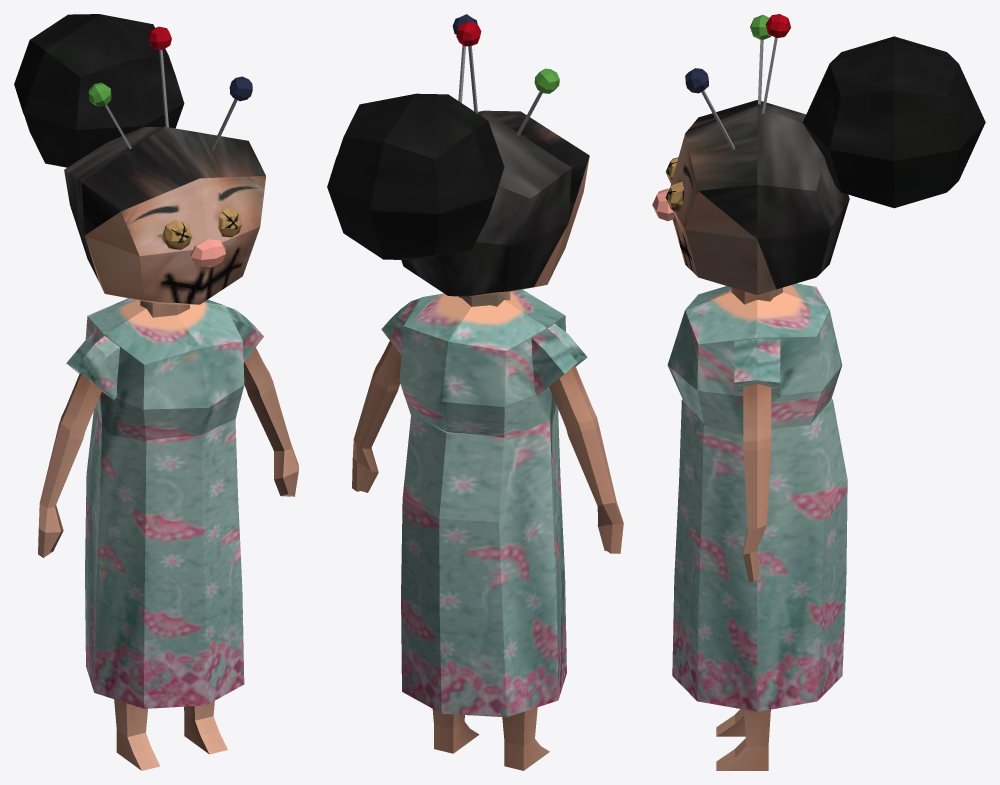
The model's file is emakvoodoo.fbx.
3 renders of one model, left to right at view 1: azimuth 30°, elevation 25°; view 2: azimuth 150°, elevation 25°; view 3: azimuth 270°, elevation 25°, orthographic. The views are drawn at different scales.
Parts seen in each view (by area): view 1: Cube.019; view 2: Cube.019; view 3: Cube.019.
Boxes of the visible parts, bbox=[...] form: Cube.019: bbox=[14, 14, 298, 770]; Cube.019: bbox=[327, 14, 623, 770]; Cube.019: bbox=[652, 14, 985, 770].
Bounding box in the file's own units: 590 × 1540 × 631.
